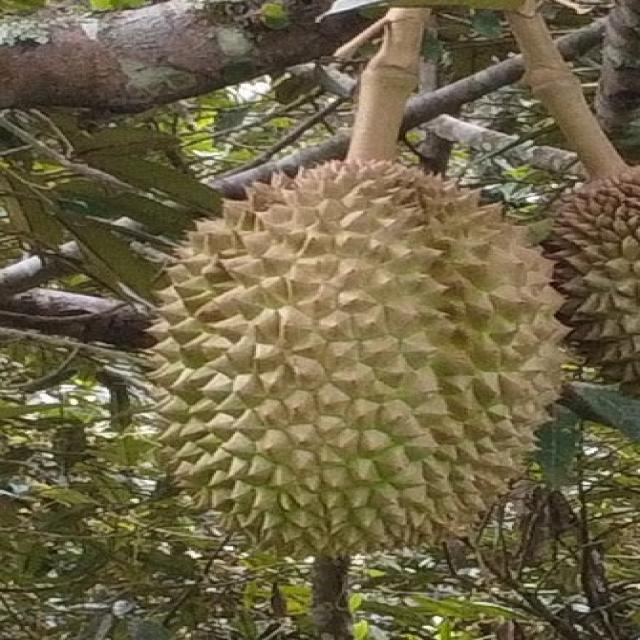mature: (128, 159, 575, 569)
